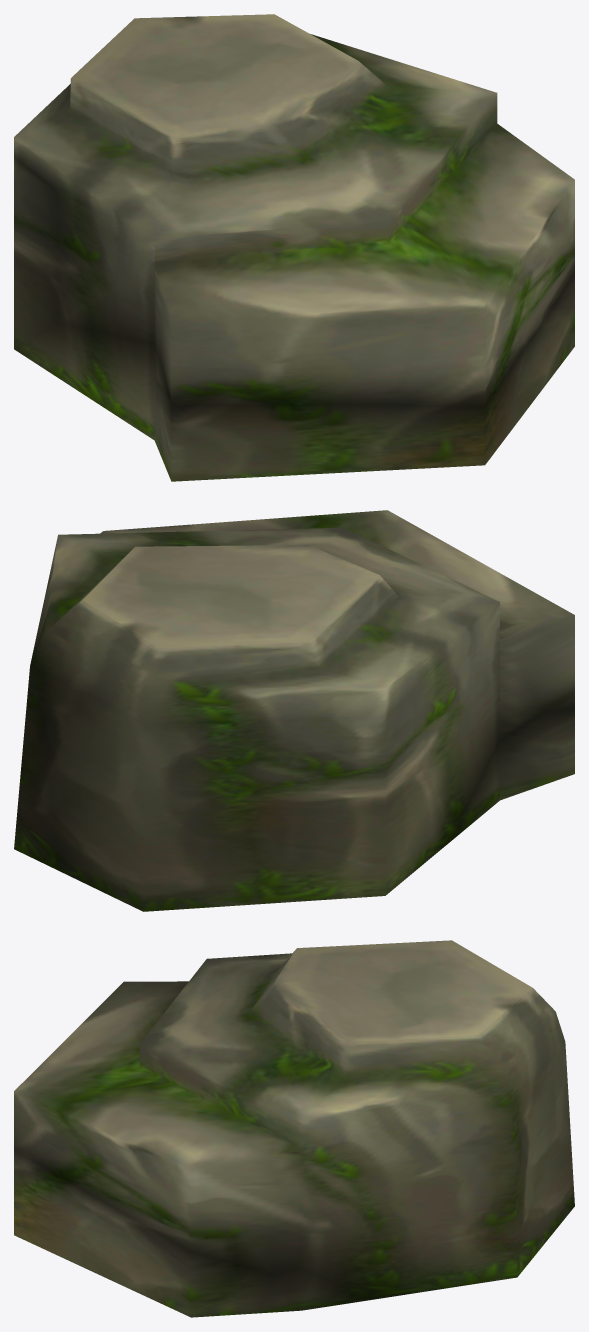
The model's file is RockFormation_4_5 (35).fbx.
3 views of the same model, one above another, from view 1: azimuth 30°, elevation 25°; view 2: azimuth 150°, elevation 25°; view 3: azimuth 270°, elevation 25° (orthographic). The views are drawn at different scales.
Visible parts, largest first — view 1: RockFormation_4_5 (35); view 2: RockFormation_4_5 (35); view 3: RockFormation_4_5 (35).
Part boxes in pixels (x1=…): RockFormation_4_5 (35): x1=14, y1=14, x2=574, y2=481; RockFormation_4_5 (35): x1=14, y1=510, x2=574, y2=911; RockFormation_4_5 (35): x1=14, y1=940, x2=574, y2=1317.
Size of the model in its own units: 136 by 73.36 by 168.
Materials: 1 (1 with a texture image).
